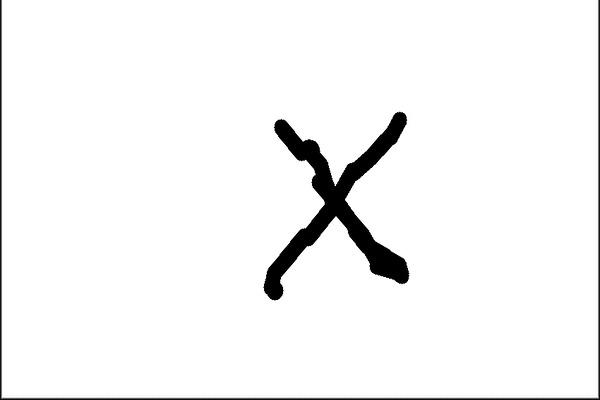X: (241, 100, 420, 307)
